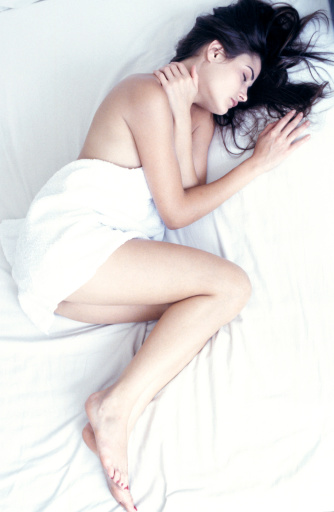deitado: (29, 0, 322, 512)
